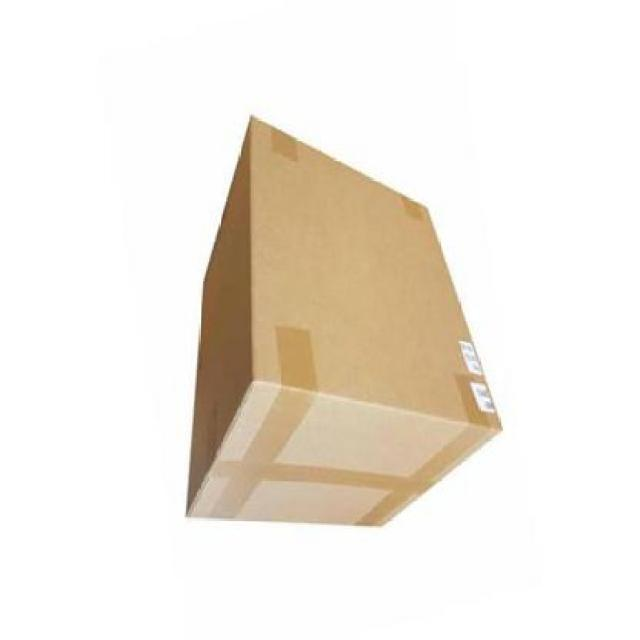Kardus kondisi bagus: (186, 111, 506, 533)
